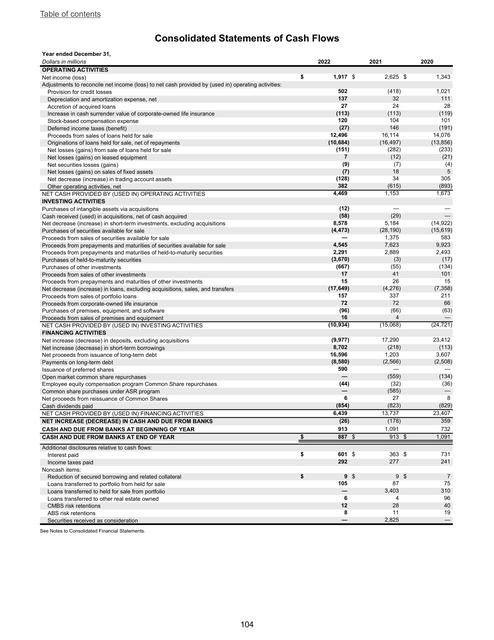box: (40, 49, 455, 528)
